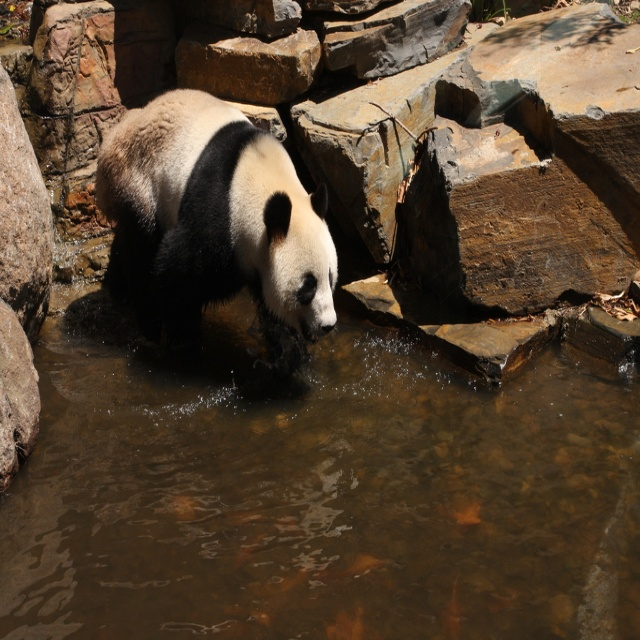Panda: (92, 84, 342, 358)
